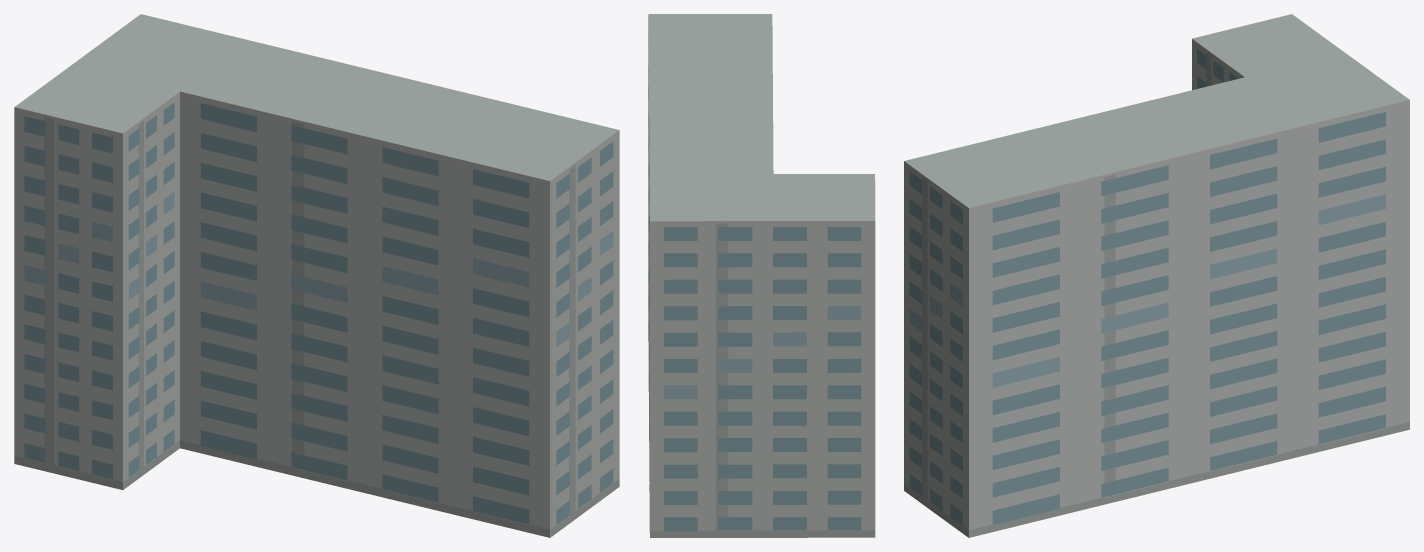
File: residential-9dc31ba2-64f2-4858-970f-734eccc08481.glb
3 renders of one model, left to right at view 1: azimuth 30°, elevation 25°; view 2: azimuth 150°, elevation 25°; view 3: azimuth 270°, elevation 25°, orthographic. The views are drawn at different scales.
Parts seen in each view (by area): view 1: residential-9dc31ba2-64f2-4858-970f-734eccc08481.tmp; view 2: residential-9dc31ba2-64f2-4858-970f-734eccc08481.tmp; view 3: residential-9dc31ba2-64f2-4858-970f-734eccc08481.tmp.
Boxes of the visible parts, x1,y1,x2,y2 form: residential-9dc31ba2-64f2-4858-970f-734eccc08481.tmp: [14, 14, 619, 537]; residential-9dc31ba2-64f2-4858-970f-734eccc08481.tmp: [648, 14, 875, 537]; residential-9dc31ba2-64f2-4858-970f-734eccc08481.tmp: [904, 14, 1409, 537].
Bounding box in the file's own units: 42.94 × 34 × 47.28.
